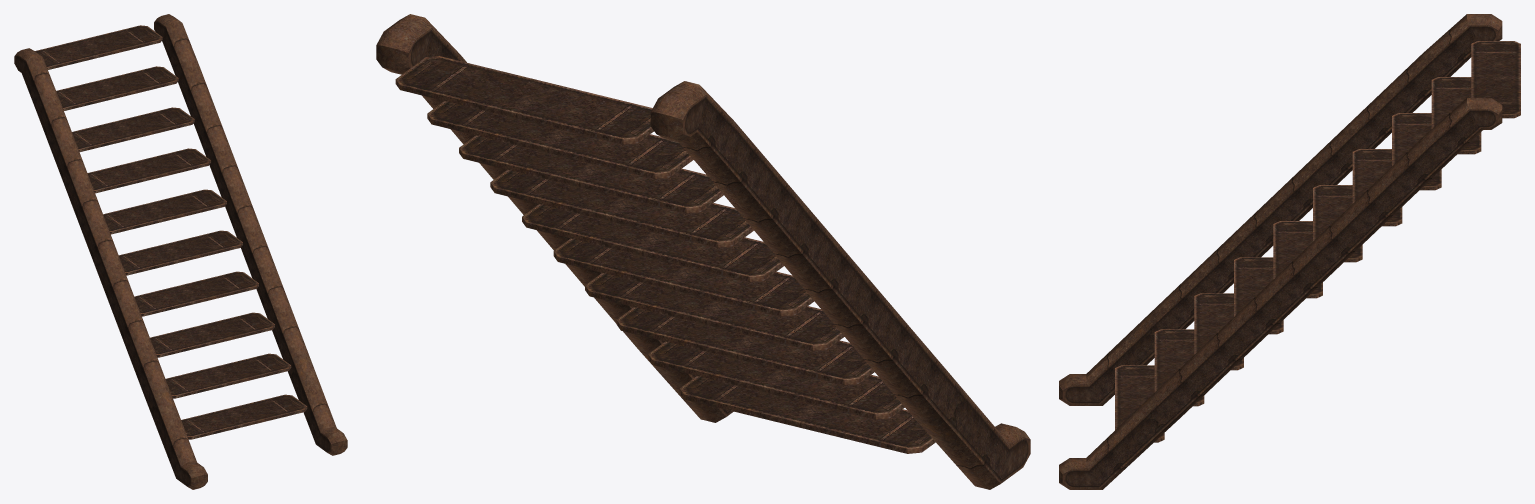
The model's file is metal_theta_rusty_norail.dae.
3 views of the same model, side by side, from view 1: azimuth 30°, elevation 25°; view 2: azimuth 150°, elevation 25°; view 3: azimuth 270°, elevation 25° (orthographic). The views are drawn at different scales.
Parts seen in each view (by area): view 1: stairs_pplant_straight; view 2: stairs_pplant_straight; view 3: stairs_pplant_straight.
Boxes of the visible parts, box(x1,y1,x2,y2) form: stairs_pplant_straight: box(14, 14, 347, 489); stairs_pplant_straight: box(376, 14, 1030, 489); stairs_pplant_straight: box(1059, 14, 1520, 489).
Size of the model in its own units: 2.24 by 4.3 by 4.65.
